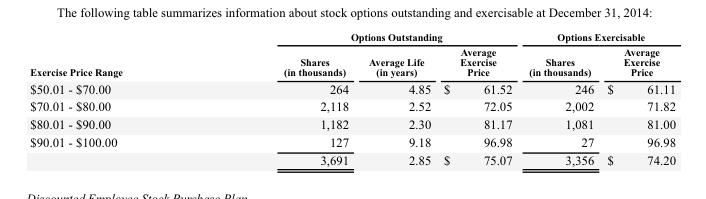table: (29, 29, 675, 168)
table column: (29, 29, 202, 168), (202, 29, 358, 168), (436, 29, 519, 168), (519, 29, 599, 168), (358, 29, 436, 168), (599, 29, 675, 168)
table column header: (29, 29, 675, 79)
table row: (29, 43, 675, 79), (29, 79, 675, 97), (29, 114, 675, 132), (29, 132, 675, 150), (29, 150, 675, 168), (29, 97, 675, 114), (29, 29, 675, 43)
table spanning cell: (29, 29, 202, 79), (202, 29, 519, 43), (519, 29, 675, 43)
